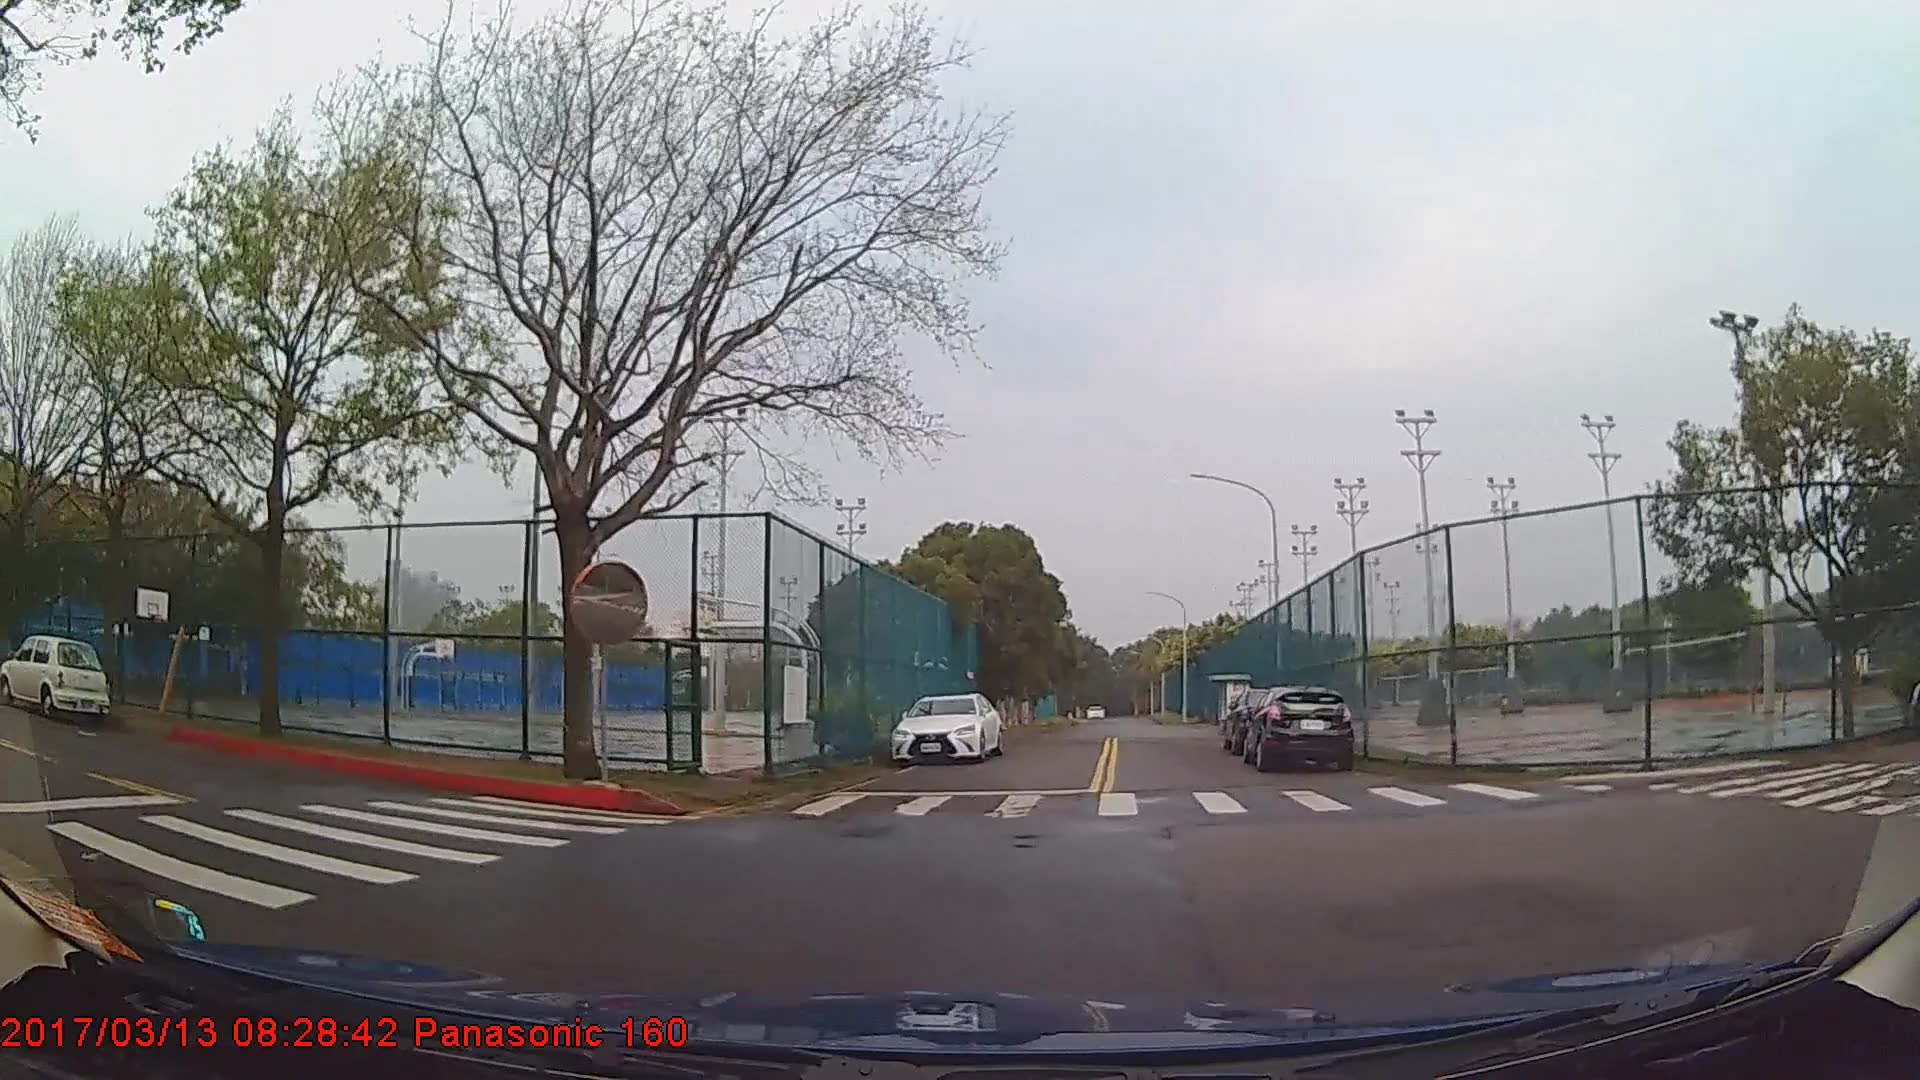vehicle: (1244, 683, 1356, 771), (3, 630, 111, 720), (890, 691, 1002, 766)
